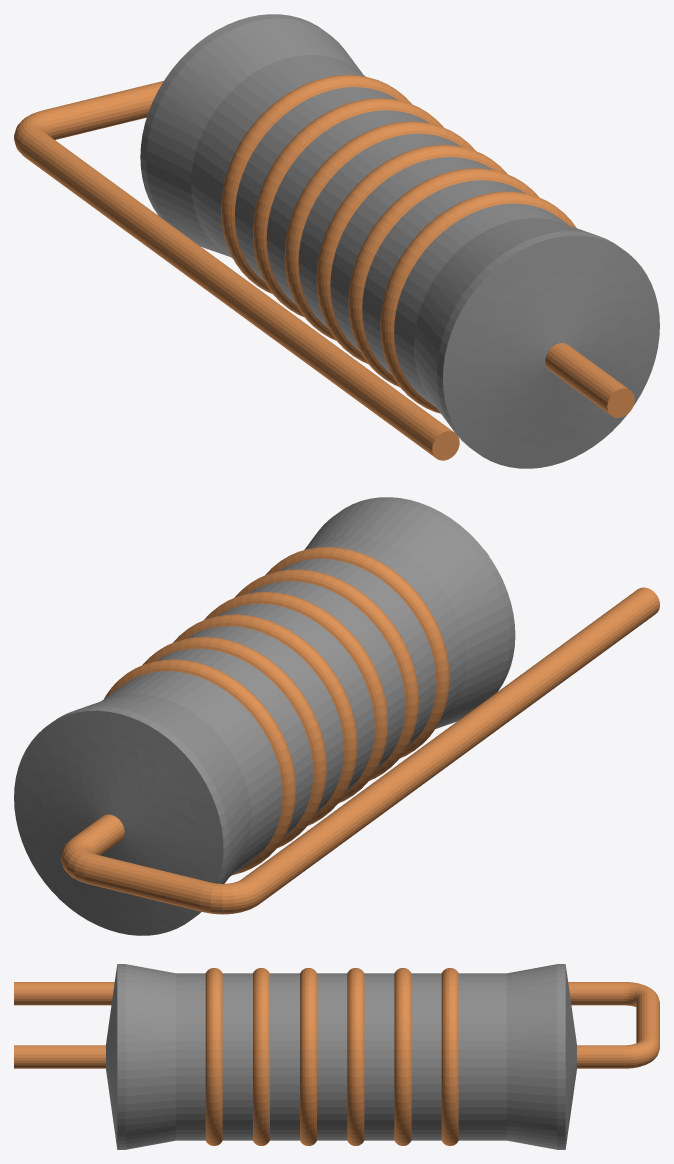
The model's file is L_Axial_L16.0mm_D6.3mm_P5.08mm_Vertical_Fastron_VHBCC.glb.
3 renders of one model, top to bottom at view 1: azimuth 30°, elevation 25°; view 2: azimuth 150°, elevation 25°; view 3: azimuth 270°, elevation 25°, orthographic. The views are drawn at different scales.
Parts seen in each view (by area): view 1: Shape_IndexedFaceSet.002, Shape_IndexedFaceSet.025, Shape_IndexedFaceSet.018, Shape_IndexedFaceSet.017, Shape_IndexedFaceSet.004, Shape_IndexedFaceSet.005, Shape_IndexedFaceSet.007, Shape_IndexedFaceSet.009, Shape_IndexedFaceSet.011, Shape_IndexedFaceSet.015, Shape_IndexedFaceSet.013, Shape_IndexedFaceSet.006 (+10 smaller); view 2: Shape_IndexedFaceSet.020, Shape_IndexedFaceSet.025, Shape_IndexedFaceSet.004, Shape_IndexedFaceSet.017, Shape_IndexedFaceSet.018, Shape_IndexedFaceSet.013, Shape_IndexedFaceSet.009, Shape_IndexedFaceSet.007, Shape_IndexedFaceSet.015, Shape_IndexedFaceSet.011, Shape_IndexedFaceSet.005, Shape_IndexedFaceSet.016 (+11 smaller); view 3: Shape_IndexedFaceSet.004, Shape_IndexedFaceSet.018, Shape_IndexedFaceSet.017, Shape_IndexedFaceSet.007, Shape_IndexedFaceSet.011, Shape_IndexedFaceSet.013, Shape_IndexedFaceSet.015, Shape_IndexedFaceSet.005, Shape_IndexedFaceSet.009, Shape_IndexedFaceSet.025, Shape_IndexedFaceSet.012, Shape_IndexedFaceSet.016 (+13 smaller).
Boxes of the visible parts, left/top/right/bottom form: Shape_IndexedFaceSet.002: left=443, top=235, right=659, bottom=468; Shape_IndexedFaceSet.025: left=20, top=129, right=454, bottom=457; Shape_IndexedFaceSet.018: left=146, top=18, right=363, bottom=256; Shape_IndexedFaceSet.017: left=191, top=55, right=365, bottom=258; Shape_IndexedFaceSet.004: left=414, top=218, right=595, bottom=430; Shape_IndexedFaceSet.005: left=394, top=203, right=568, bottom=407; Shape_IndexedFaceSet.007: left=362, top=180, right=524, bottom=374; Shape_IndexedFaceSet.009: left=330, top=157, right=492, bottom=351; Shape_IndexedFaceSet.011: left=298, top=133, right=460, bottom=328; Shape_IndexedFaceSet.015: left=235, top=87, right=397, bottom=281; Shape_IndexedFaceSet.013: left=266, top=110, right=428, bottom=304; Shape_IndexedFaceSet.006: left=380, top=191, right=576, bottom=413; Shape_IndexedFaceSet.020: left=14, top=710, right=223, bottom=935; Shape_IndexedFaceSet.025: left=241, top=587, right=659, bottom=903; Shape_IndexedFaceSet.004: left=304, top=501, right=509, bottom=728; Shape_IndexedFaceSet.017: left=102, top=671, right=282, bottom=876; Shape_IndexedFaceSet.018: left=77, top=694, right=251, bottom=883; Shape_IndexedFaceSet.013: left=187, top=626, right=343, bottom=813; Shape_IndexedFaceSet.009: left=248, top=581, right=405, bottom=768; Shape_IndexedFaceSet.007: left=279, top=558, right=436, bottom=746; Shape_IndexedFaceSet.015: left=156, top=648, right=313, bottom=835; Shape_IndexedFaceSet.011: left=217, top=603, right=374, bottom=791; Shape_IndexedFaceSet.005: left=310, top=536, right=466, bottom=723; Shape_IndexedFaceSet.016: left=104, top=659, right=295, bottom=874; Shape_IndexedFaceSet.004: left=126, top=964, right=176, bottom=1149; Shape_IndexedFaceSet.018: left=506, top=964, right=556, bottom=1149; Shape_IndexedFaceSet.017: left=458, top=973, right=506, bottom=1140; Shape_IndexedFaceSet.007: left=222, top=973, right=252, bottom=1140; Shape_IndexedFaceSet.011: left=317, top=973, right=347, bottom=1140; Shape_IndexedFaceSet.013: left=364, top=973, right=394, bottom=1140; Shape_IndexedFaceSet.015: left=411, top=973, right=441, bottom=1140; Shape_IndexedFaceSet.005: left=176, top=973, right=205, bottom=1140; Shape_IndexedFaceSet.009: left=270, top=973, right=299, bottom=1140; Shape_IndexedFaceSet.025: left=14, top=982, right=624, bottom=1005; Shape_IndexedFaceSet.012: left=347, top=968, right=364, bottom=1145; Shape_IndexedFaceSet.016: left=441, top=968, right=458, bottom=1145.
Bounding box in the file's own units: 3.4 × 2.48 × 8.62.
